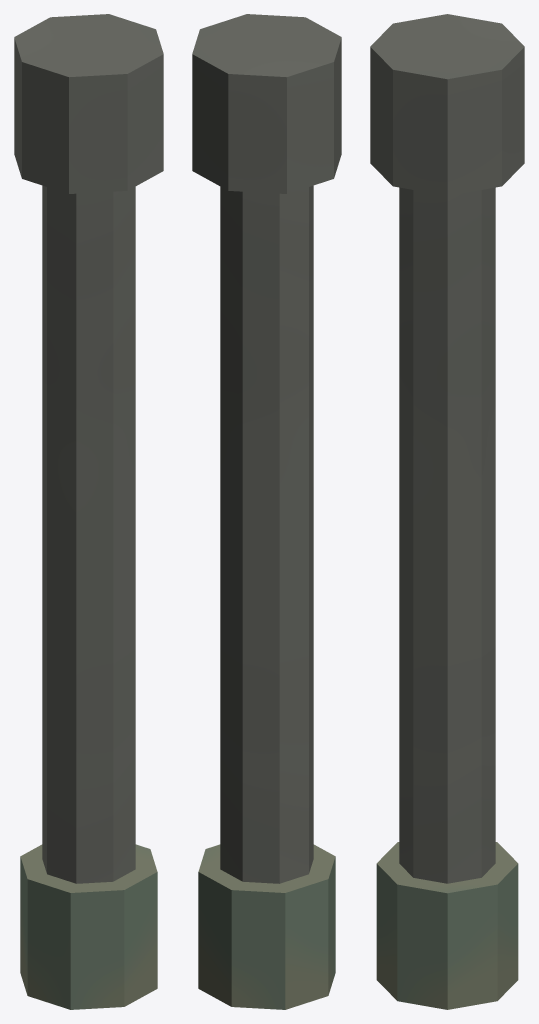
The model's file is WarrensC_PWC03_PistonRod_Mars_SM.fbx.
3 views of the same model, side by side, from view 1: azimuth 30°, elevation 25°; view 2: azimuth 150°, elevation 25°; view 3: azimuth 270°, elevation 25° (orthographic).
Parts seen in each view (by area): view 1: WarrensC_PWC03_PistonRod_Mars_SM.001; view 2: WarrensC_PWC03_PistonRod_Mars_SM.001; view 3: WarrensC_PWC03_PistonRod_Mars_SM.001.
Part boxes in pixels (box(x1,y1,x2,y2)): WarrensC_PWC03_PistonRod_Mars_SM.001: box(14, 14, 163, 1009); WarrensC_PWC03_PistonRod_Mars_SM.001: box(192, 14, 341, 1009); WarrensC_PWC03_PistonRod_Mars_SM.001: box(370, 14, 524, 1009).
Size of the model in its own units: 24 by 24 by 160.
